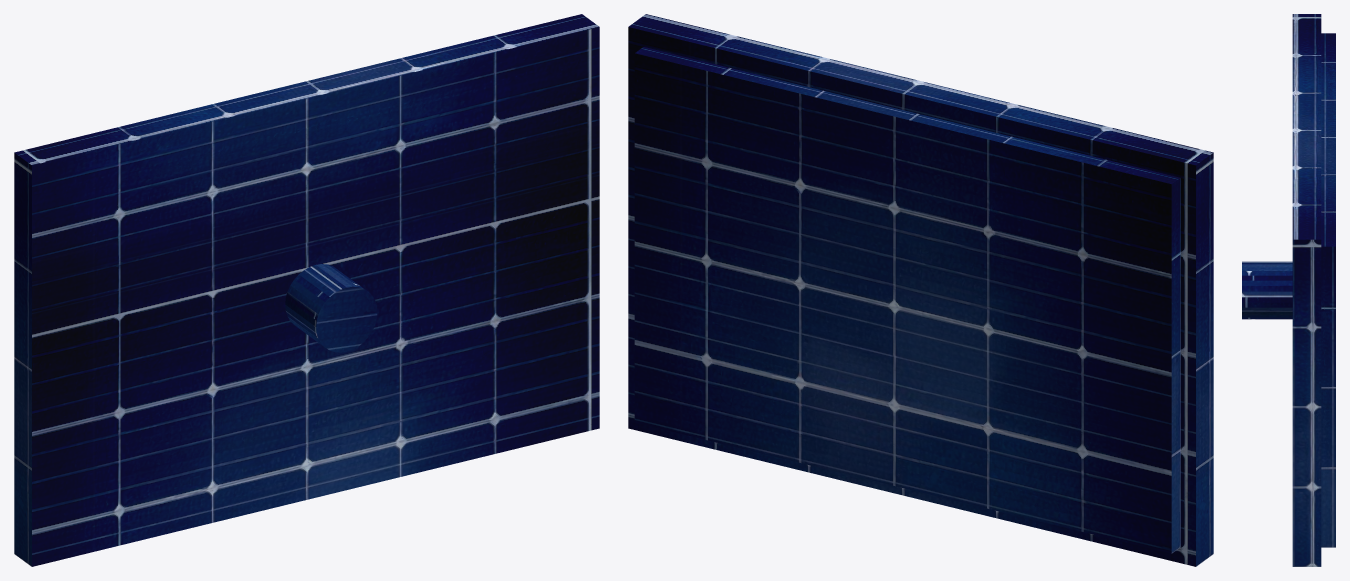
Rendered from solar_panel.glb.
3 views of the same model, side by side, from view 1: azimuth 30°, elevation 25°; view 2: azimuth 150°, elevation 25°; view 3: azimuth 270°, elevation 25° (orthographic). The views are drawn at different scales.
Parts seen in each view (by area): view 1: Cube; view 2: Cube; view 3: Cube.
Part boxes in pixels (<box>): Cube: <box>14,14,599,566</box>; Cube: <box>628,14,1213,566</box>; Cube: <box>1242,14,1335,566</box>.
Size of the model in its own units: 0.37 by 0.25 by 0.065.
Materials: 1 (1 with a texture image).
